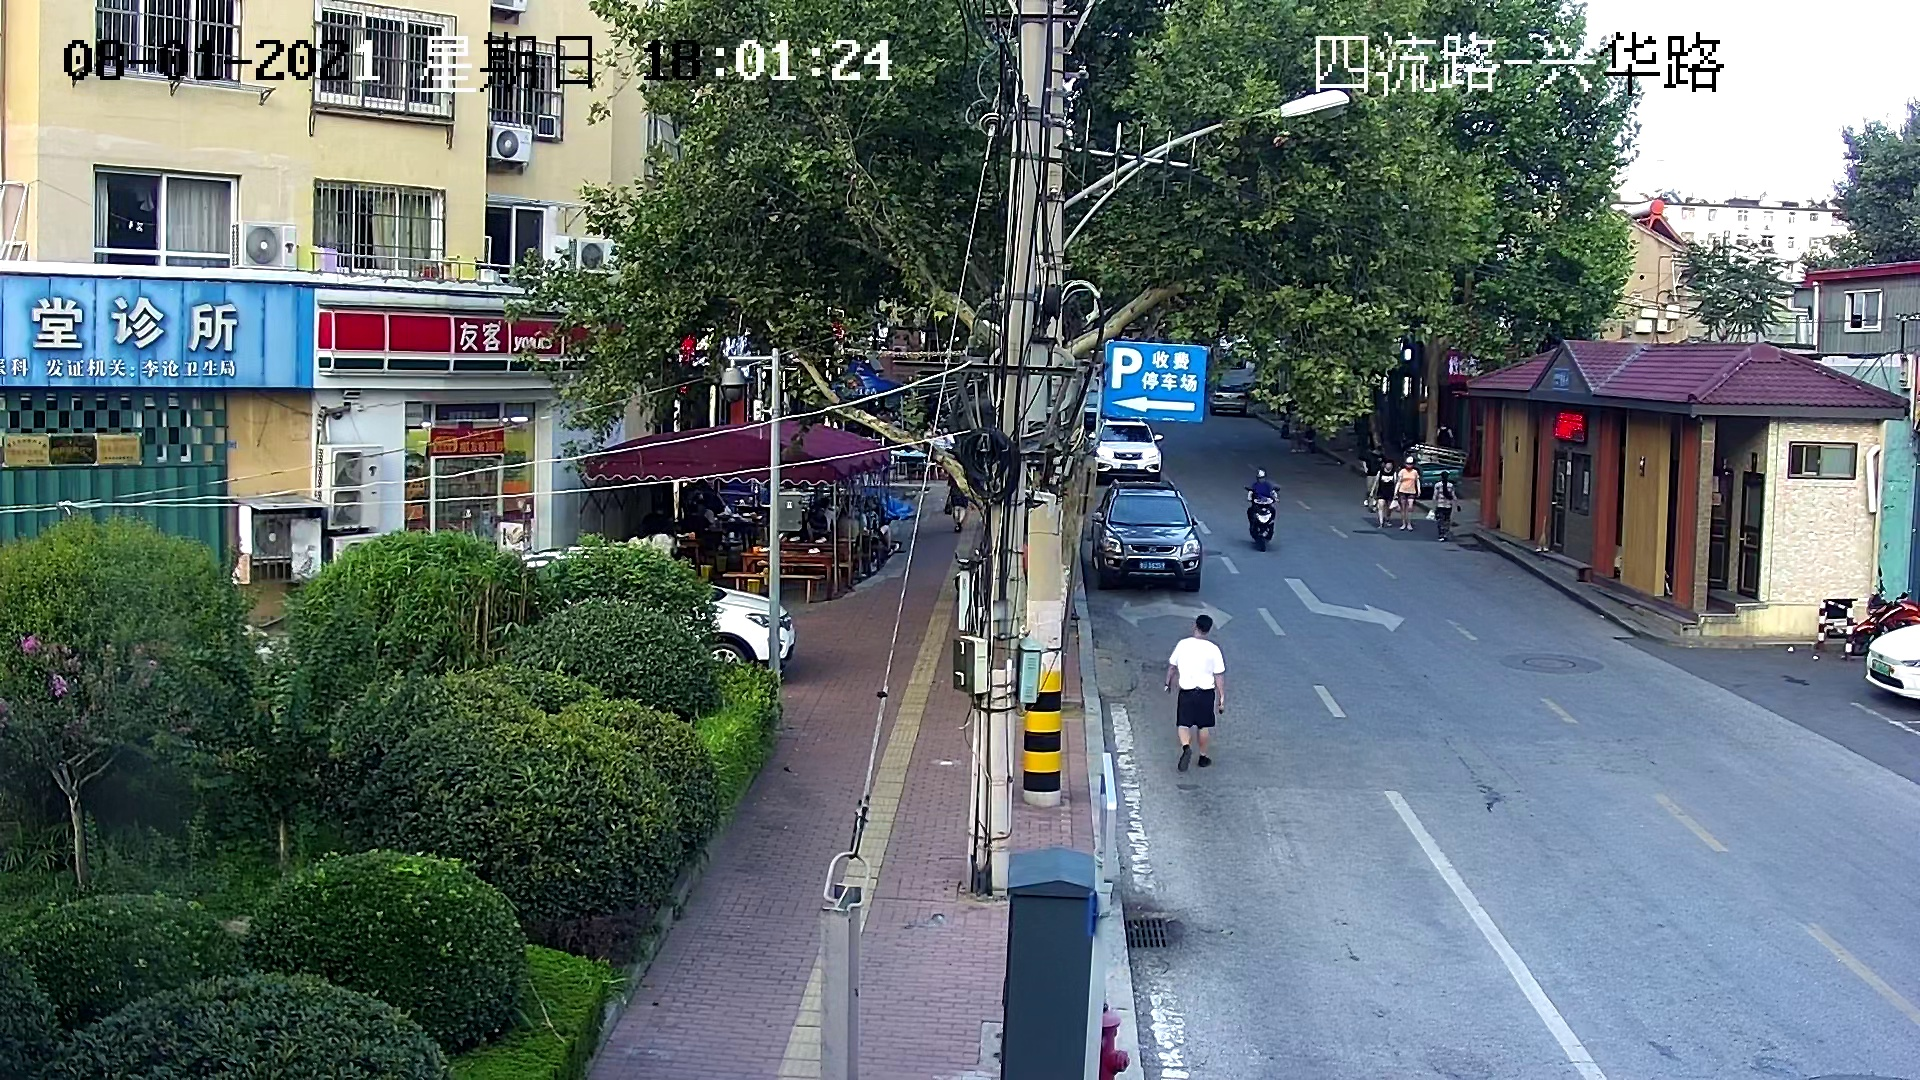umbrella: (571, 418, 891, 487), (818, 357, 915, 404)
uncertain: (640, 491, 878, 605), (855, 436, 957, 481)
